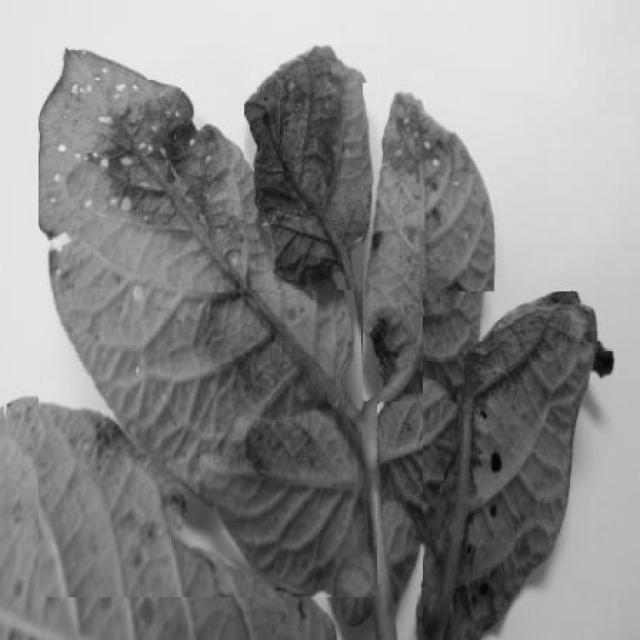Late Blight: (39, 45, 377, 598), (423, 291, 617, 640), (364, 83, 495, 401), (245, 45, 382, 291)
